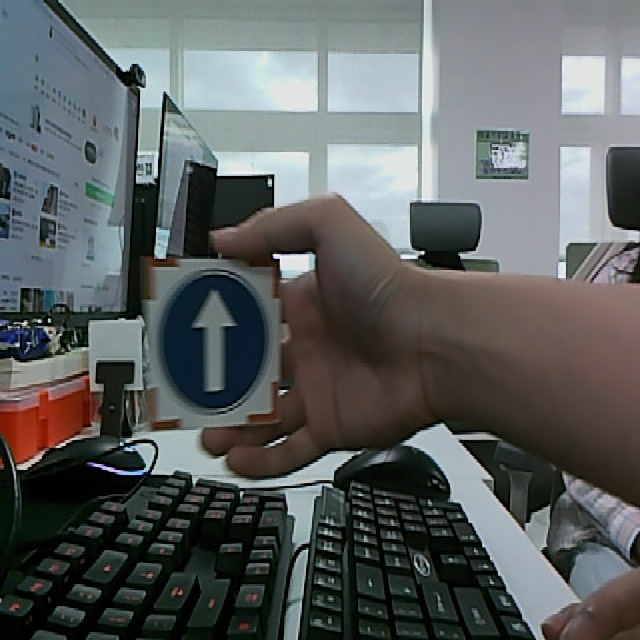straight: (139, 257, 282, 433)
